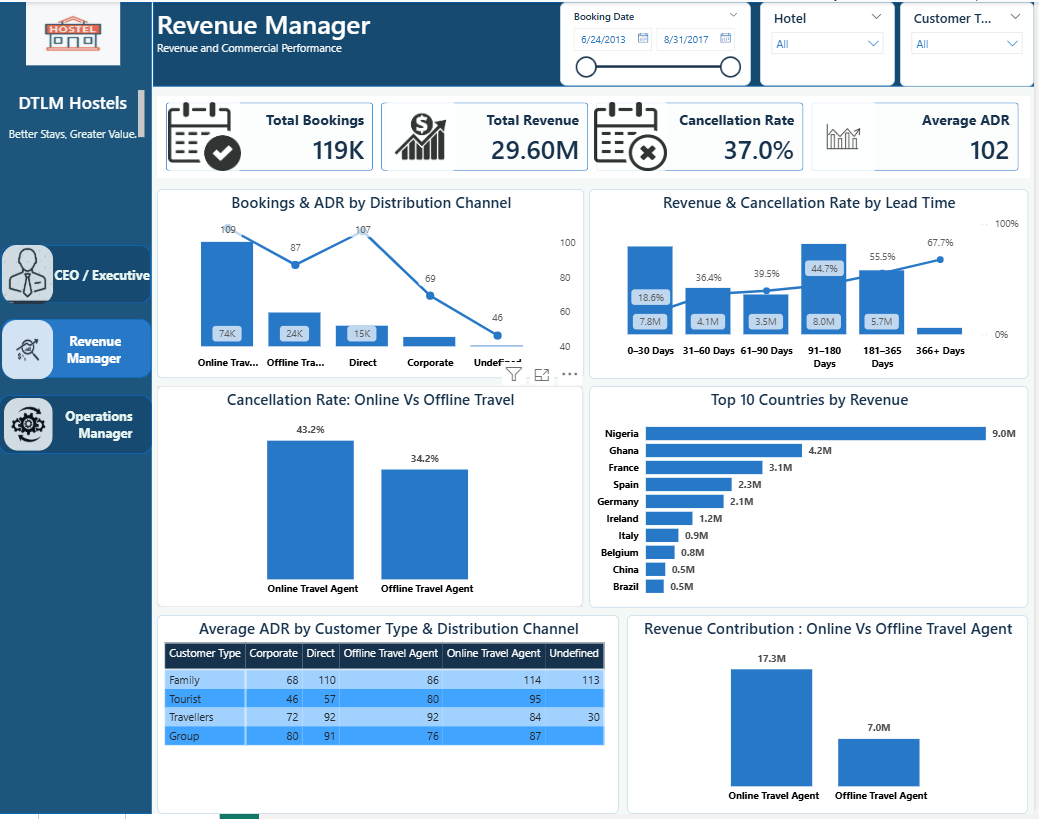

This screenshot's page, from the dashboard's own definition file:
{"tool":"powerbi","page":{"name":"Revenue","canvas":[1280,1000],"ordinal":1},"visuals":[{"type":"shape","box":[194,0,1085.8,104],"z":0},{"type":"shape","box":[4.9,0,188.4,1000],"z":1000},{"type":"cardVisual","fields":{"Data":["KPI Measures.Total Bookings","KPI Measures.Total Revenue","KPI Measures.Cancellation Rate","KPI Measures.Average ADR"]},"box":[199.5,115.8,1075.1,101],"z":2000},{"type":"lineClusteredColumnComboChart","title":"Bookings & ADR by Distribution Channel","fields":{"Category":["Data.Distribution Channel"],"Y":["Count(Data.Booking ID)"],"Y2":["KPI Measures.Average ADR"]},"box":[193.8,230,531.2,232.5],"z":3000},{"type":"lineStackedColumnComboChart","title":" Revenue & Cancellation Rate by Lead Time","fields":{"Y":["KPI Measures.Total Revenue"],"Y2":["KPI Measures.Cancellation Rate"],"Category":["Data.Lead Time Range"]},"box":[731.5,230.3,540.6,234],"z":4000},{"type":"clusteredColumnChart","title":"Revenue Contribution : Online Vs Offline Travel Agent","fields":{"Category":["Data.Distribution Channel"],"Y":["KPI Measures.Total Revenue"]},"box":[778.8,755,493.8,245],"z":6000},{"type":"pivotTable","title":"Average ADR by Customer Type & Distribution Channel","fields":{"Rows":["Data.Customer Type"],"Values":["KPI Measures.Average ADR"],"Columns":["Data.Distribution Channel"]},"box":[193.8,755,575,245],"z":7000},{"type":"clusteredBarChart","title":"Top 10 Countries by Revenue","fields":{"Category":["Data.Country"],"Y":["KPI Measures.Total Revenue"]},"box":[731.2,472.5,541.2,272.5],"z":8000},{"type":"columnChart","title":"Cancellation Rate: Online Vs Offline Travel","fields":{"Category":["Data.Distribution Channel"],"Y":["KPI Measures.Cancellation Rate"]},"box":[193.8,472.5,530,272.5],"z":9000},{"type":"textbox","box":[194.6,0,445.8,103.4],"z":10000},{"type":"slicer","fields":{"Values":["Data.Booking Date"]},"box":[695.8,0,235.2,103.4],"z":11000},{"type":"slicer","fields":{"Values":["Data.Customer Type"]},"box":[1115,0,165,103.8],"z":12000},{"type":"slicer","fields":{"Values":["Data.Hotel"]},"box":[942.1,0,166.3,103.4],"z":13000},{"type":"image","box":[38.6,0,115.7,78.4],"z":14000},{"type":"textbox","box":[11.2,103.8,177.5,70],"z":15000},{"type":"shape","box":[7.5,298.8,187.5,72.5],"z":16000},{"type":"shape","box":[8.8,390,183.8,72.5],"z":17000},{"type":"shape","box":[4.9,484,188.4,72.7],"z":18000},{"type":"actionButton","box":[67.7,300.5,126.8,71.4],"z":19000},{"type":"actionButton","box":[11.2,390,153.8,73.8],"z":20000},{"type":"actionButton","box":[12.5,483.8,161.2,72.5],"z":21000},{"type":"image","box":[8.8,298.8,62.5,72.5],"z":22000},{"type":"image","box":[11.2,487.5,60,65],"z":23000},{"type":"image","box":[8.8,391.2,62.5,72.5],"z":24000},{"type":"image","box":[1004.9,123.2,80,85],"z":25000},{"type":"image","box":[737.7,123.2,89.9,85],"z":26000},{"type":"image","box":[213.1,123.2,89.9,85],"z":27000},{"type":"image","box":[481.5,123.2,85,85],"z":28000}]}

Visuals, with their boxes on the page's 1280x1000 design canvas (x1, y1, x2, y2). These are canvas units, not pixel positions in the 1039x819 screenshot, which may show the page scaled, cropped or inside an application window:
shape: [left=194, top=0, right=1280, bottom=104]
shape: [left=5, top=0, right=193, bottom=1000]
cardVisual - KPI Measures.Total Bookings x KPI Measures.Total Revenue: [left=200, top=116, right=1275, bottom=217]
"Bookings & ADR by Distribution Channel" lineClusteredColumnComboChart: [left=194, top=230, right=725, bottom=462]
" Revenue & Cancellation Rate by Lead Time" lineStackedColumnComboChart: [left=732, top=230, right=1272, bottom=464]
"Revenue Contribution : Online Vs Offline Travel Agent" clusteredColumnChart: [left=779, top=755, right=1273, bottom=1000]
"Average ADR by Customer Type & Distribution Channel" pivotTable: [left=194, top=755, right=769, bottom=1000]
"Top 10 Countries by Revenue" clusteredBarChart: [left=731, top=472, right=1272, bottom=745]
"Cancellation Rate: Online Vs Offline Travel" columnChart: [left=194, top=472, right=724, bottom=745]
textbox: [left=195, top=0, right=640, bottom=103]
slicer - Data.Booking Date: [left=696, top=0, right=931, bottom=103]
slicer - Data.Customer Type: [left=1115, top=0, right=1280, bottom=104]
slicer - Data.Hotel: [left=942, top=0, right=1108, bottom=103]
image: [left=39, top=0, right=154, bottom=78]
textbox: [left=11, top=104, right=189, bottom=174]
shape: [left=8, top=299, right=195, bottom=371]
shape: [left=9, top=390, right=193, bottom=462]
shape: [left=5, top=484, right=193, bottom=557]
actionButton: [left=68, top=300, right=194, bottom=372]
actionButton: [left=11, top=390, right=165, bottom=464]
actionButton: [left=12, top=484, right=174, bottom=556]
image: [left=9, top=299, right=71, bottom=371]
image: [left=11, top=488, right=71, bottom=552]
image: [left=9, top=391, right=71, bottom=464]
image: [left=1005, top=123, right=1085, bottom=208]
image: [left=738, top=123, right=828, bottom=208]
image: [left=213, top=123, right=303, bottom=208]
image: [left=482, top=123, right=566, bottom=208]
